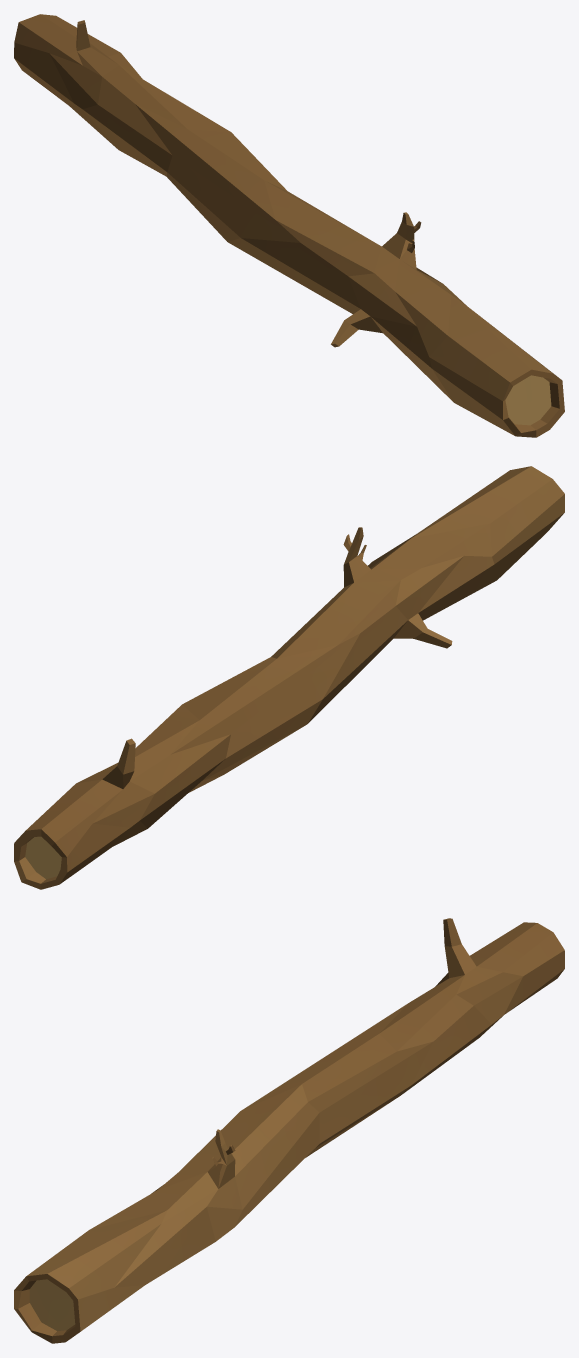
Rendered from log_8.glb.
3 views of the same model, one above another, from view 1: azimuth 30°, elevation 25°; view 2: azimuth 150°, elevation 25°; view 3: azimuth 330°, elevation 25° (orthographic).
Parts seen in each view (by area): view 1: log_8; view 2: log_8; view 3: log_8.
Boxes of the visible parts, <box> form: log_8: <box>14,14,564,437</box>; log_8: <box>14,466,564,889</box>; log_8: <box>14,918,564,1343</box>.
Bounding box in the file's own units: 0.1005 × 0.1122 × 0.8587.
Materials: 1 (1 with a texture image).
